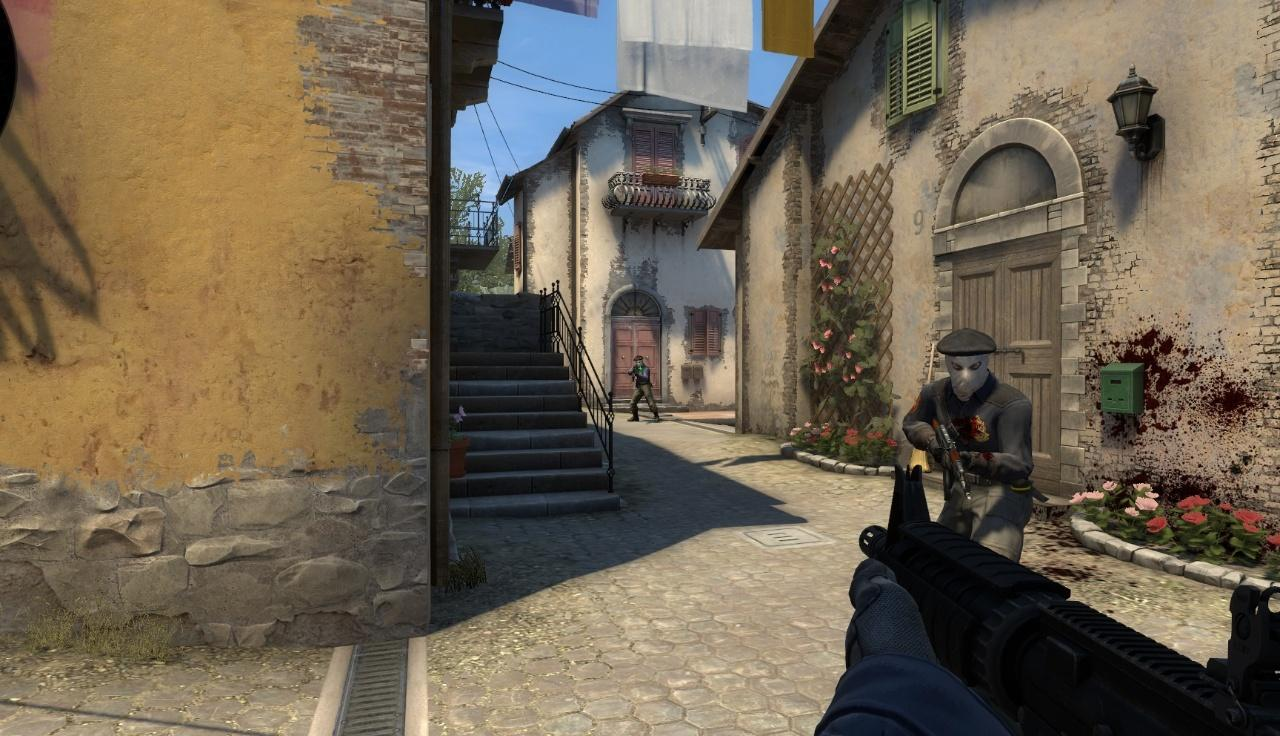rifle: (840, 462, 1280, 731)
tt: (903, 326, 1032, 566), (626, 355, 660, 421)
tthead: (942, 329, 991, 396), (634, 355, 643, 368)
